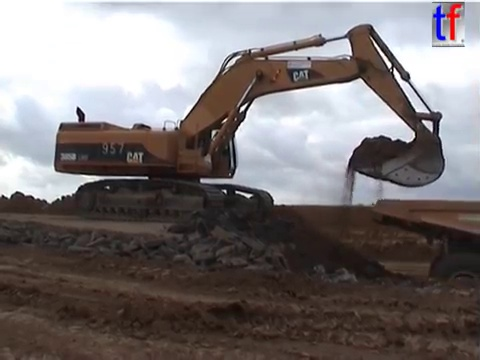excavator: (51, 20, 449, 227)
truck: (365, 196, 480, 316)
